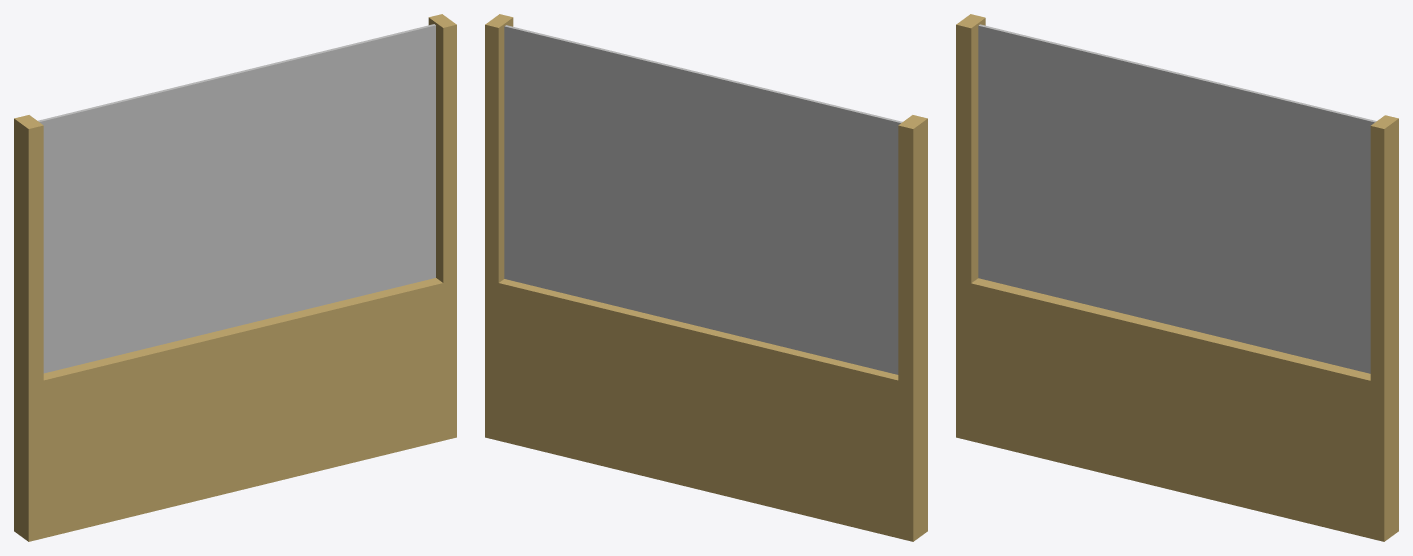
Rendered from fence_2.fbx.
3 views of the same model, side by side, from view 1: azimuth 30°, elevation 25°; view 2: azimuth 150°, elevation 25°; view 3: azimuth 330°, elevation 25° (orthographic).
Visible parts, largest first — view 1: Fence_2; view 2: Fence_2; view 3: Fence_2.
Part boxes in pixels (<box>): Fence_2: <box>14,14,456,541</box>; Fence_2: <box>485,14,927,541</box>; Fence_2: <box>956,14,1398,541</box>.
Bounding box in the file's own units: 3.27 × 3.01 × 0.1927.
